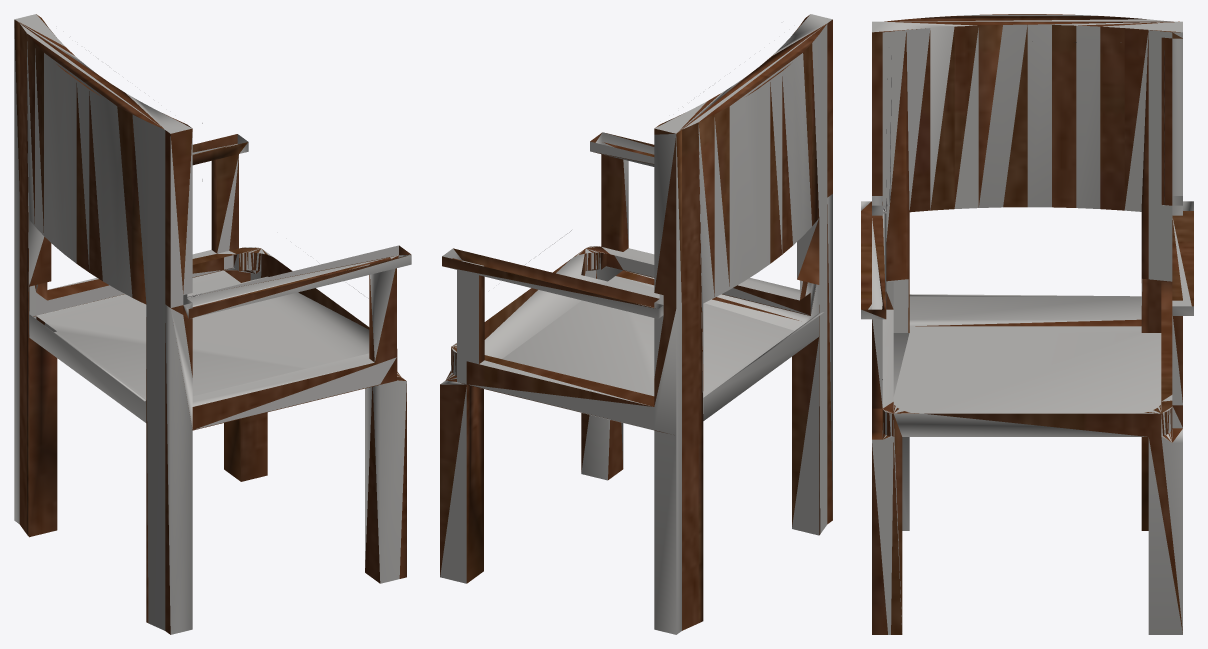
File: body.obj
The picture shows the model from 3 angles, left to right: view 1: azimuth 30°, elevation 25°; view 2: azimuth 150°, elevation 25°; view 3: azimuth 270°, elevation 25°; orthographic projection.
Parts seen in each view (by area): view 1: body_mesh1_mesh1-geometry; view 2: body_mesh1_mesh1-geometry; view 3: body_mesh1_mesh1-geometry.
Part boxes in pixels (x1,y1,x2,y2): body_mesh1_mesh1-geometry: (14,14,411,634); body_mesh1_mesh1-geometry: (440,14,832,634); body_mesh1_mesh1-geometry: (861,14,1193,634).
Bounding box in the file's own units: 0.4031 × 0.7659 × 0.4636.
